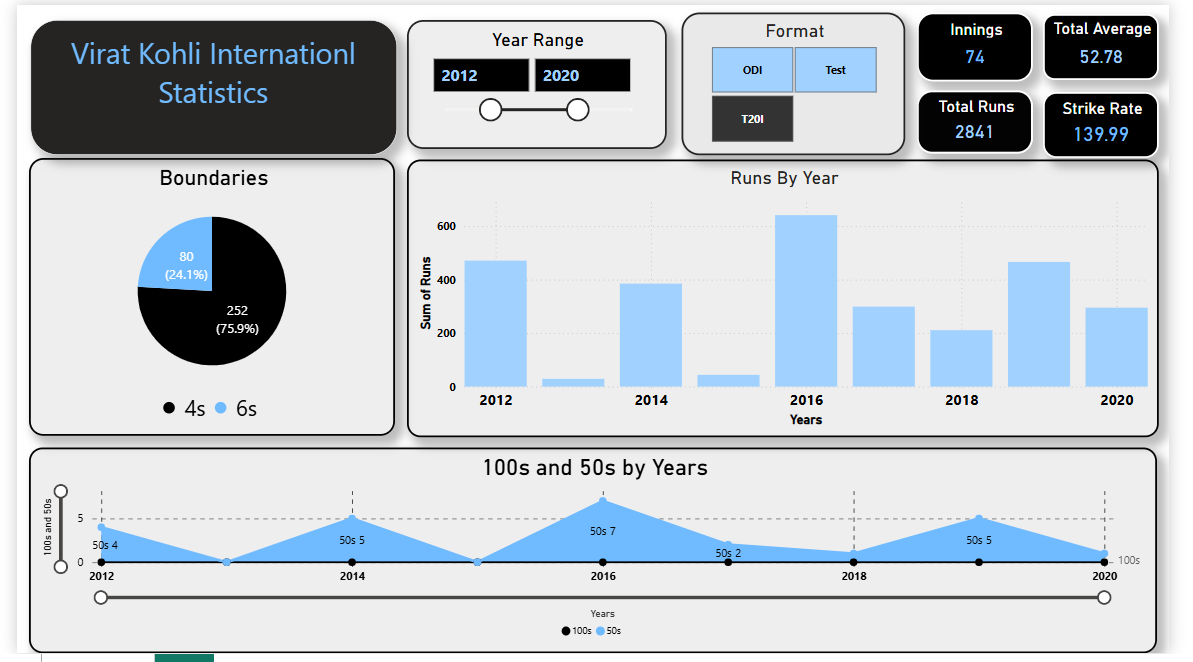

What the dashboard file says about the page in this screenshot:
{"tool":"powerbi","page":{"name":"Page 1","canvas":[1280,720],"ordinal":0},"visuals":[{"type":"card","title":"Innings","fields":{"Values":["Sheet2.Innings"]},"box":[1000,8.3,128.3,76.7],"z":0},{"type":"card","title":"Total Runs","fields":{"Values":["Sheet2.Runs"]},"box":[1000,95,128.3,70],"z":1000},{"type":"card","title":"Total Average","fields":{"Values":["Sheet2.Avg"]},"box":[1140,10,128.3,73.3],"z":2000},{"type":"card","title":"Strike Rate","fields":{"Values":["Sheet2.SR"]},"box":[1140,96.7,128.3,73.3],"z":3000},{"type":"slicer","title":"Format","fields":{"Values":["Sheet2.Format"]},"box":[738.3,8.3,248.3,158.3],"z":4000},{"type":"slicer","title":"Year Range","fields":{"Values":["Sheet2.Years"]},"box":[433.3,16.7,288.3,143.3],"z":5000},{"type":"clusteredColumnChart","title":"Runs By Year","fields":{"Category":["Sheet2.Years"],"Y":["Sheet2.Runs"]},"box":[433.3,171.7,835,308.3],"z":10000},{"type":"pieChart","title":"Boundaries","fields":{"Y":["Sheet2.4s","Sheet2.6s"]},"box":[13.3,170,406.7,308.3],"z":10001},{"type":"stackedAreaChart","fields":{"Y":["Sheet2.100","Sheet2.50"],"Category":["Sheet2.Years"]},"box":[13.3,491.7,1253.3,228.3],"z":10002},{"type":"textbox","box":[15,16,407,150],"z":10003}]}

Visuals, with their boxes in screenshot pixels (x1, y1, x2, y2), scaled from the page's 1280x720 canvas onto the 1193x662 screenshot:
"Innings" card: x1=932 y1=8 x2=1052 y2=78
"Total Runs" card: x1=932 y1=87 x2=1052 y2=152
"Total Average" card: x1=1063 y1=9 x2=1182 y2=77
"Strike Rate" card: x1=1063 y1=89 x2=1182 y2=156
"Format" slicer: x1=688 y1=8 x2=920 y2=153
"Year Range" slicer: x1=404 y1=15 x2=673 y2=147
"Runs By Year" clusteredColumnChart: x1=404 y1=158 x2=1182 y2=441
"Boundaries" pieChart: x1=12 y1=156 x2=391 y2=440
stackedAreaChart - Sheet2.100 x Sheet2.50: x1=12 y1=452 x2=1181 y2=661
textbox: x1=14 y1=15 x2=393 y2=153
